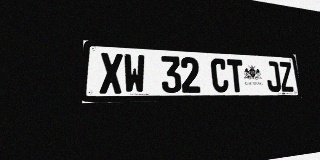2: (180, 57, 200, 93)
3: (161, 56, 182, 93)
C: (210, 58, 229, 92)
J: (265, 61, 282, 92)
T: (227, 59, 245, 92)
W: (123, 54, 146, 93)
X: (100, 52, 123, 94)
Z: (278, 62, 295, 92)
